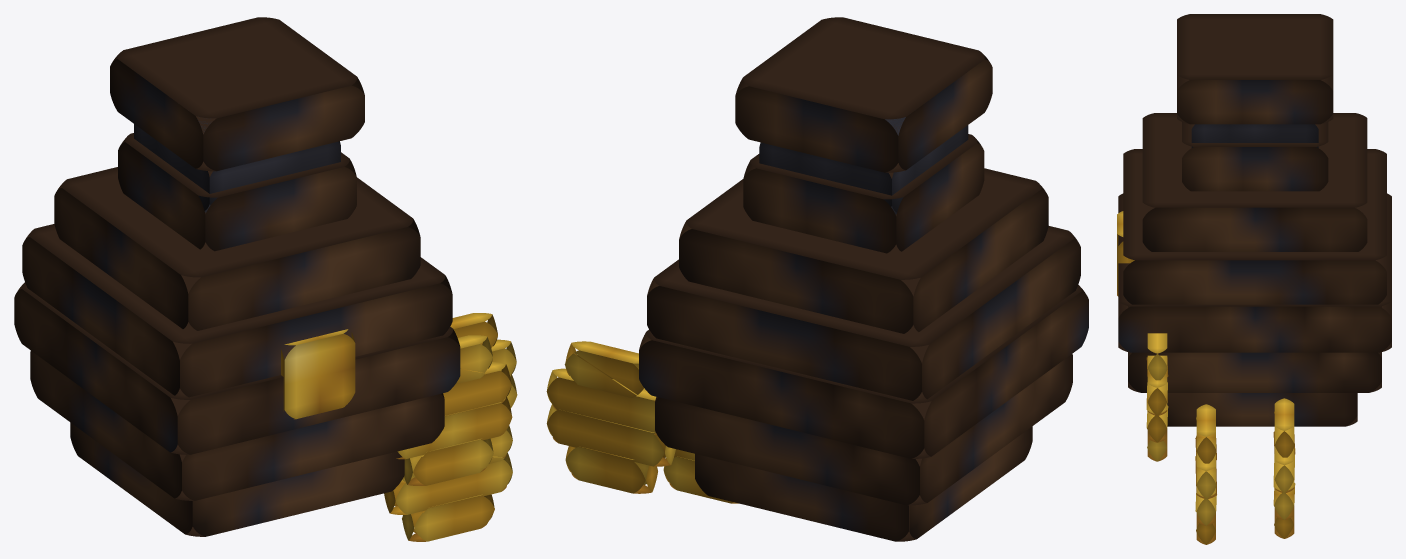
The model's file is smugglers_purse.obj.
3 renders of one model, left to right at view 1: azimuth 30°, elevation 25°; view 2: azimuth 150°, elevation 25°; view 3: azimuth 270°, elevation 25°, orthographic. The views are drawn at different scales.
Visible parts, largest first — view 1: lit; view 2: lit; view 3: lit.
Part boxes in pixels (left/top/right/bottom): lit: left=14, top=17, right=517, bottom=541; lit: left=546, top=17, right=1088, bottom=541; lit: left=1117, top=14, right=1391, bottom=544.
Size of the model in its own units: 0.5351 by 0.575 by 0.3516.
